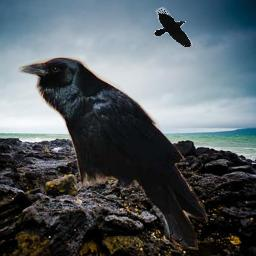Crow: (18, 57, 208, 250), (154, 7, 193, 47)
